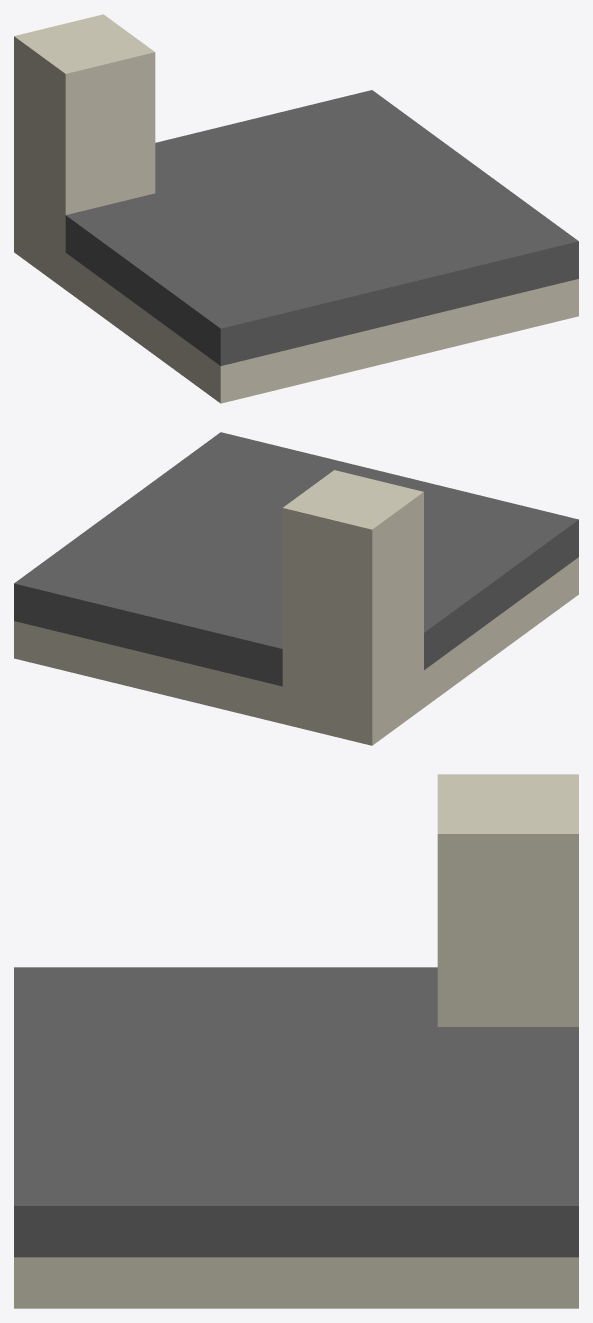
The model's file is roadTile_090.fbx.
3 views of the same model, one above another, from view 1: azimuth 30°, elevation 25°; view 2: azimuth 150°, elevation 25°; view 3: azimuth 270°, elevation 25° (orthographic). The views are drawn at different scales.
Parts seen in each view (by area): view 1: roadTile_090; view 2: roadTile_090; view 3: roadTile_090.
Part boxes in pixels (x1,y1,x2,y2): roadTile_090: (14, 14, 578, 403); roadTile_090: (14, 432, 578, 745); roadTile_090: (14, 774, 578, 1308).
Bounding box in the file's own units: 118 × 68.11 × 118.
